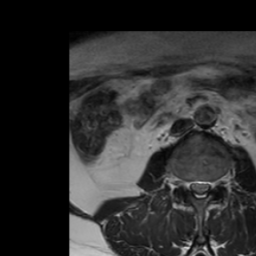CCS_stenosis: (196, 173, 203, 205)
LFS_stenosis: (211, 172, 220, 197)
LLS_normal: (203, 172, 211, 201)
RFS_stenosis: (179, 172, 188, 197)
RLS_normal: (188, 173, 196, 199)
